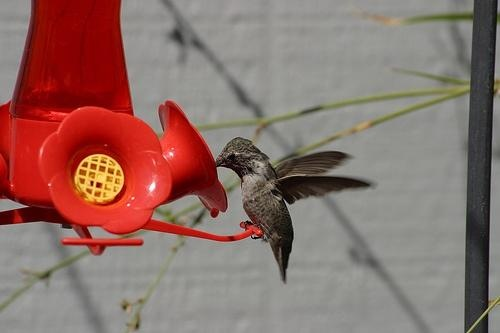bird: (215, 137, 377, 287)
